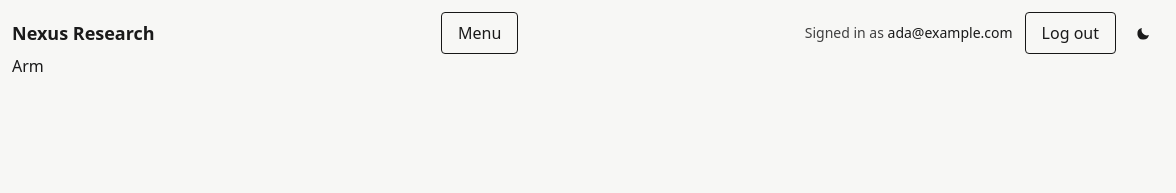
Test: app header › opens the narrow menu, focuses the first link, and closes on Escape
Expected: the link "History" is not shown
Click the button "Menu": (480,33) x1=441 y1=12 x2=518 y2=54
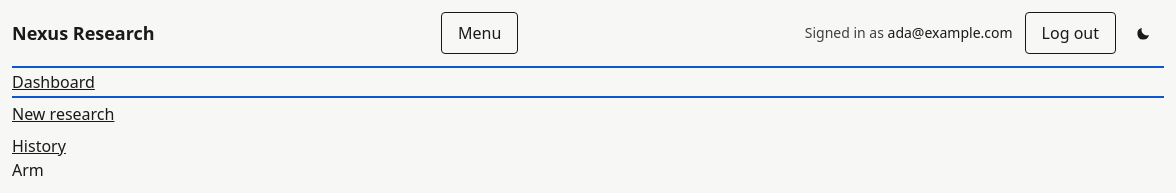
Press Tab
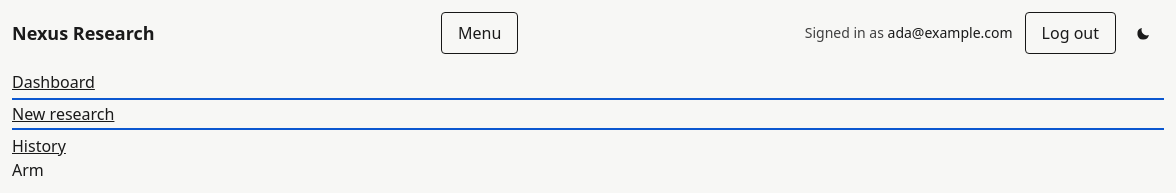
Press Escape
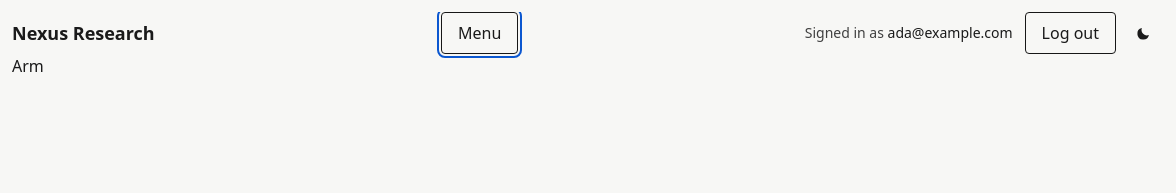
Expected: the link "History" is gone
